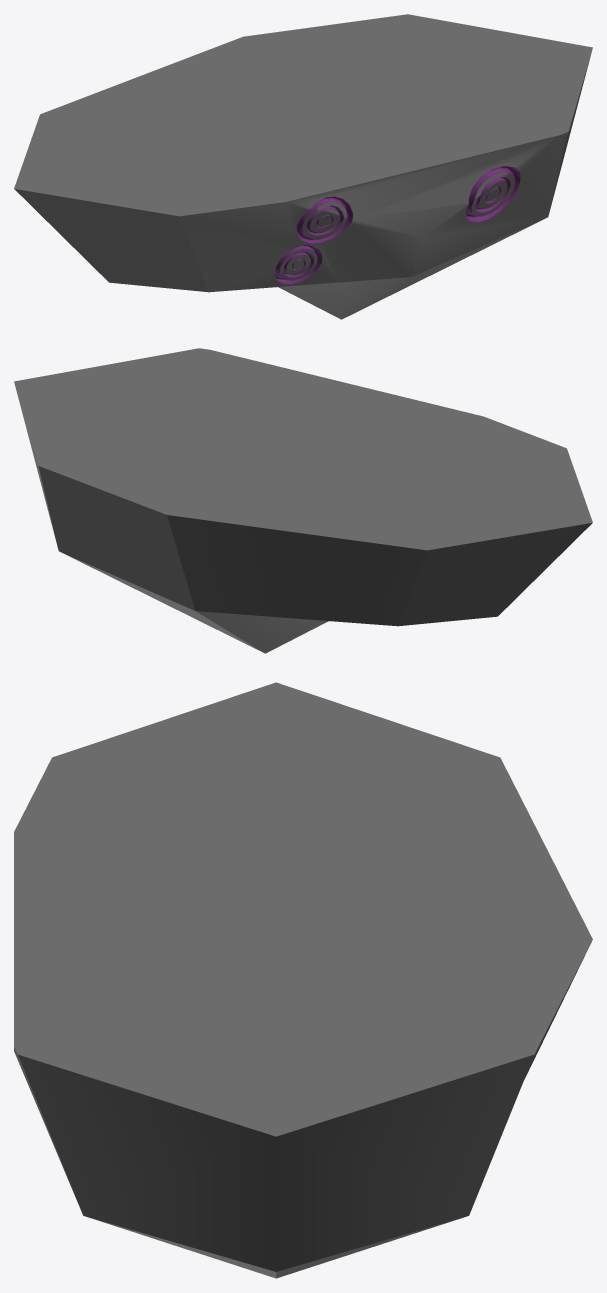
File: Platform3.fbx
The picture shows the model from 3 angles, top to bottom: view 1: azimuth 30°, elevation 25°; view 2: azimuth 150°, elevation 25°; view 3: azimuth 270°, elevation 25°; orthographic projection. The views are drawn at different scales.
Visible parts, largest first — view 1: Platform3; view 2: Platform3; view 3: Platform3.
Boxes of the visible parts, x1,y1,x2,y2 form: Platform3: [14, 14, 592, 319]; Platform3: [14, 348, 592, 653]; Platform3: [14, 682, 592, 1278].
Size of the model in its own units: 11.74 by 4.09 by 6.32.
